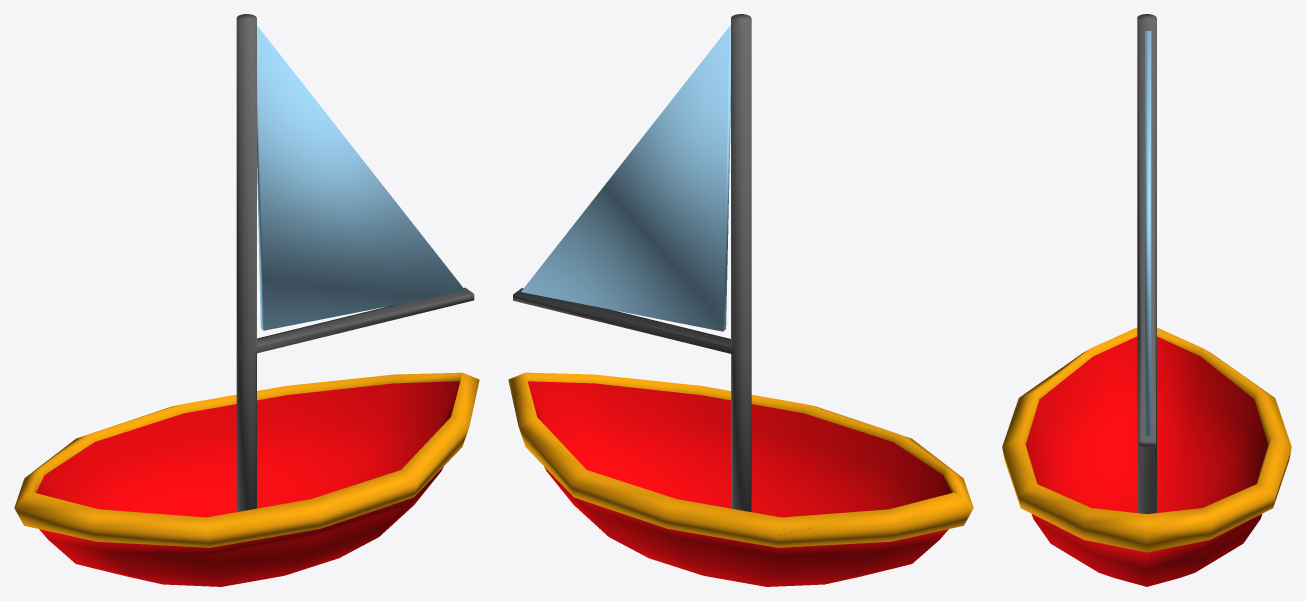
File: boat2.obj
The picture shows the model from 3 angles, left to right: view 1: azimuth 30°, elevation 25°; view 2: azimuth 150°, elevation 25°; view 3: azimuth 270°, elevation 25°; orthographic projection. The views are drawn at different scales.
Parts seen in each view (by area): view 1: Plane_Plane.001; view 2: Plane_Plane.001; view 3: Plane_Plane.001.
Boxes of the visible parts, left/top/right/bottom form: Plane_Plane.001: left=14, top=14, right=479, bottom=586; Plane_Plane.001: left=508, top=14, right=973, bottom=586; Plane_Plane.001: left=1002, top=14, right=1291, bottom=586.
Bounding box in the file's own units: 6.2 × 6.93 × 3.45.
Materials: 1 (1 with a texture image).
